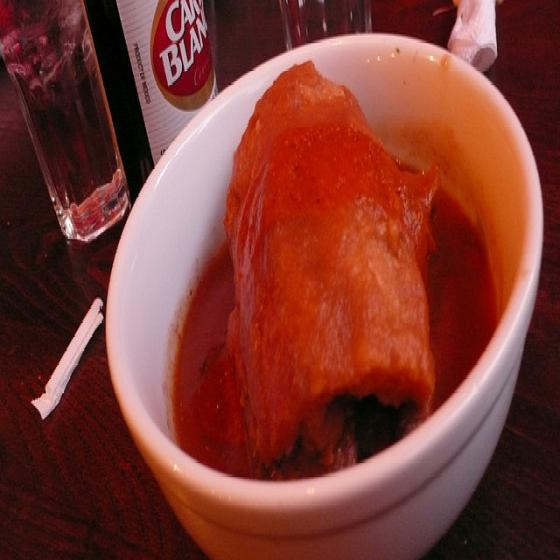bottle: (82, 1, 218, 211)
bowl: (105, 30, 546, 554)
cup: (0, 0, 132, 242), (276, 0, 373, 52)
dining table: (3, 2, 560, 547)
